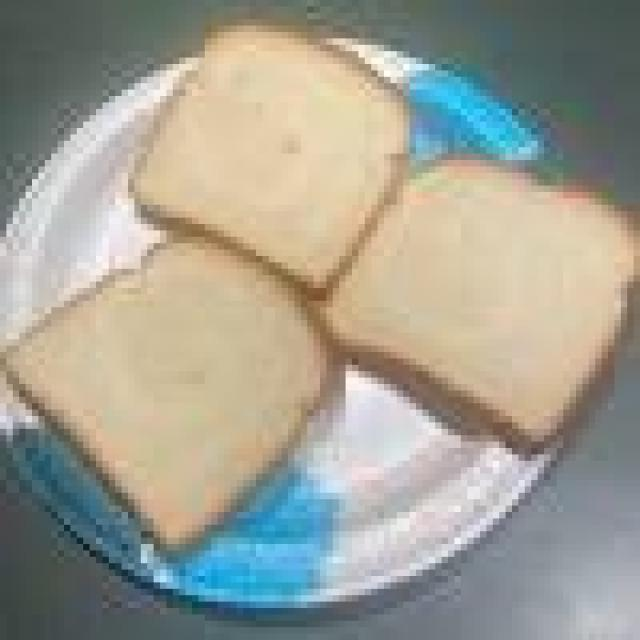Bread: (4, 236, 329, 547), (319, 159, 632, 447), (132, 22, 405, 294)
